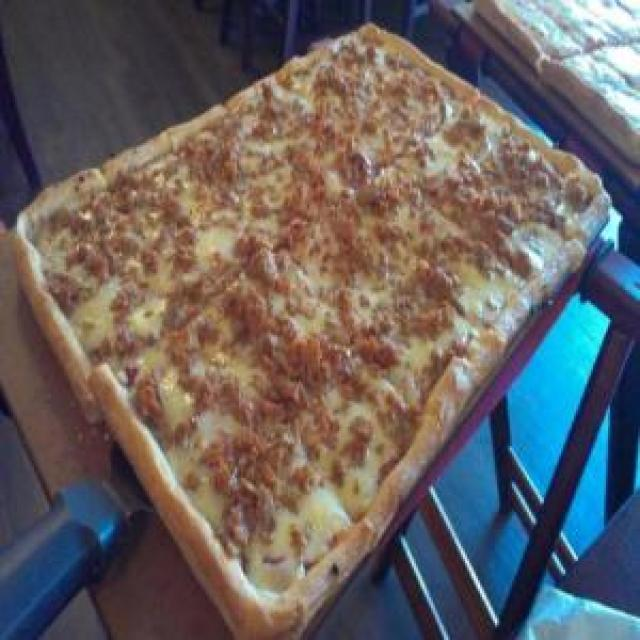Pizza: (22, 50, 618, 609), (471, 0, 638, 171)
